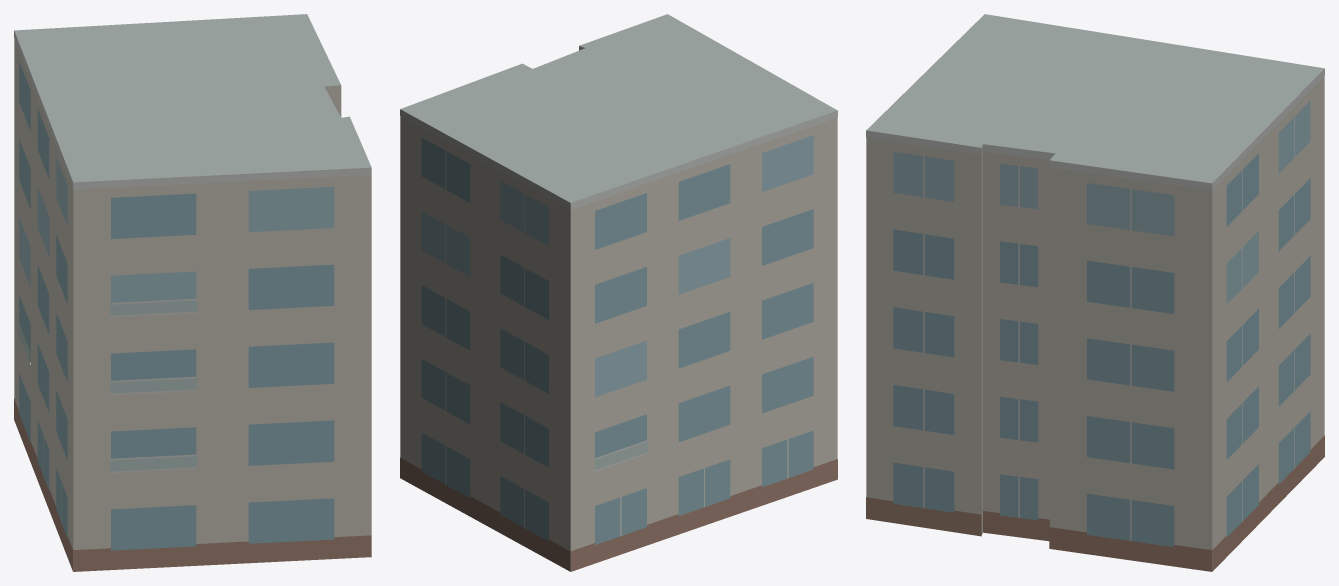
Rendered from survey-upis-32528835.glb.
The picture shows the model from 3 angles, left to right: view 1: azimuth 30°, elevation 25°; view 2: azimuth 150°, elevation 25°; view 3: azimuth 270°, elevation 25°; orthographic projection. The views are drawn at different scales.
Visible parts, largest first — view 1: survey-upis-32528835.tmp; view 2: survey-upis-32528835.tmp; view 3: survey-upis-32528835.tmp.
Boxes of the visible parts, left/top/right/bottom form: survey-upis-32528835.tmp: left=14, top=14, right=371, bottom=571; survey-upis-32528835.tmp: left=400, top=14, right=837, bottom=571; survey-upis-32528835.tmp: left=866, top=14, right=1324, bottom=571.
Size of the model in its own units: 12.31 by 13.15 by 14.08.
